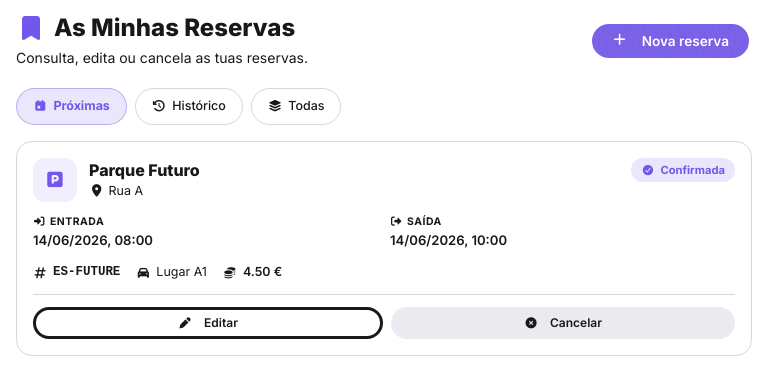
Test: MyReservationsPage › carrega reservas e permite filtrar histórico
The width and height of the screenshot is (769, 373).
Expected: the heading "Parque Futuro" is shown, [89,158,200,182]
Expected: the text "Parque Passado" is not shown
Click the tab "Histórico". click: click(189, 106)
box: [135,88,243,124]
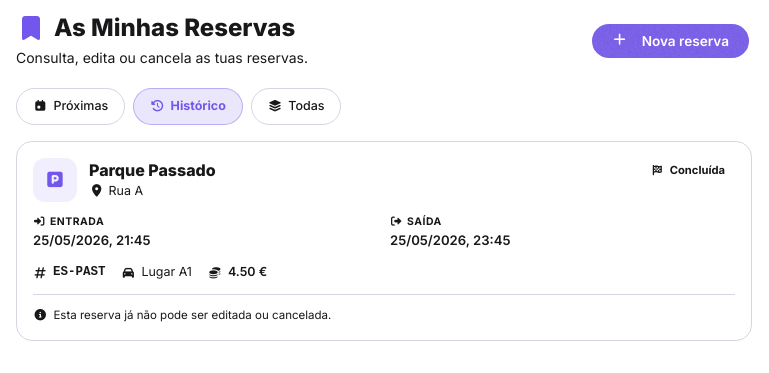
Expected: the heading "Parque Passado" is shown, [89,158,216,182]
